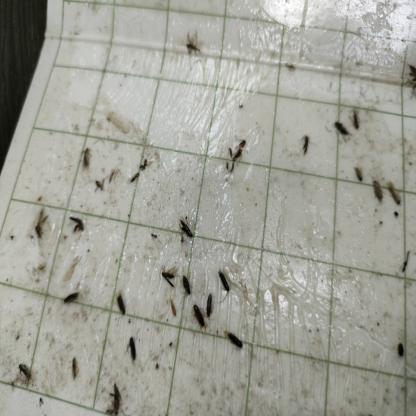prays_oleae: (224, 325, 252, 358), (190, 300, 210, 336), (231, 141, 252, 172), (33, 211, 49, 251), (12, 362, 33, 390), (107, 378, 125, 410), (332, 116, 352, 144), (383, 176, 401, 207), (112, 292, 131, 320), (124, 333, 142, 362), (370, 171, 384, 208), (68, 214, 86, 238), (158, 264, 176, 288), (350, 160, 367, 185), (60, 289, 80, 308), (70, 356, 81, 390), (217, 272, 232, 296), (201, 288, 215, 313), (80, 146, 92, 175), (179, 218, 194, 241), (182, 271, 194, 298), (168, 297, 178, 325), (302, 131, 310, 162)
